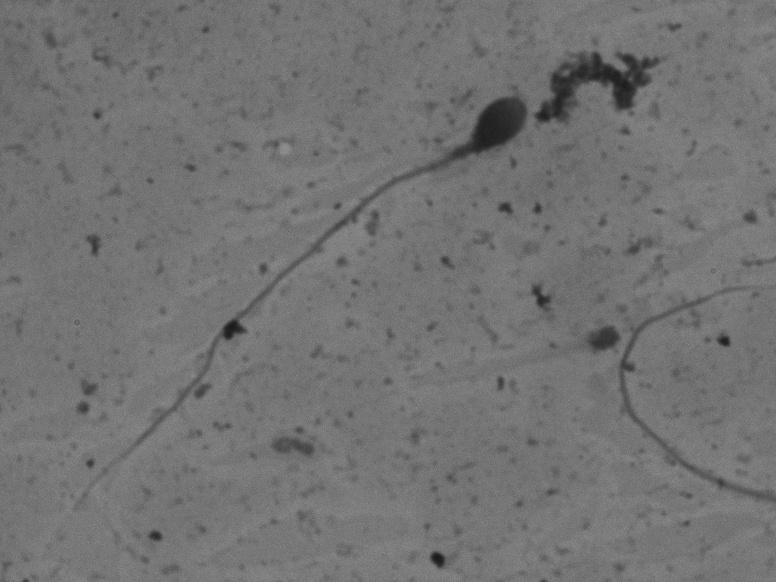Abnormal: (38, 48, 538, 548)
